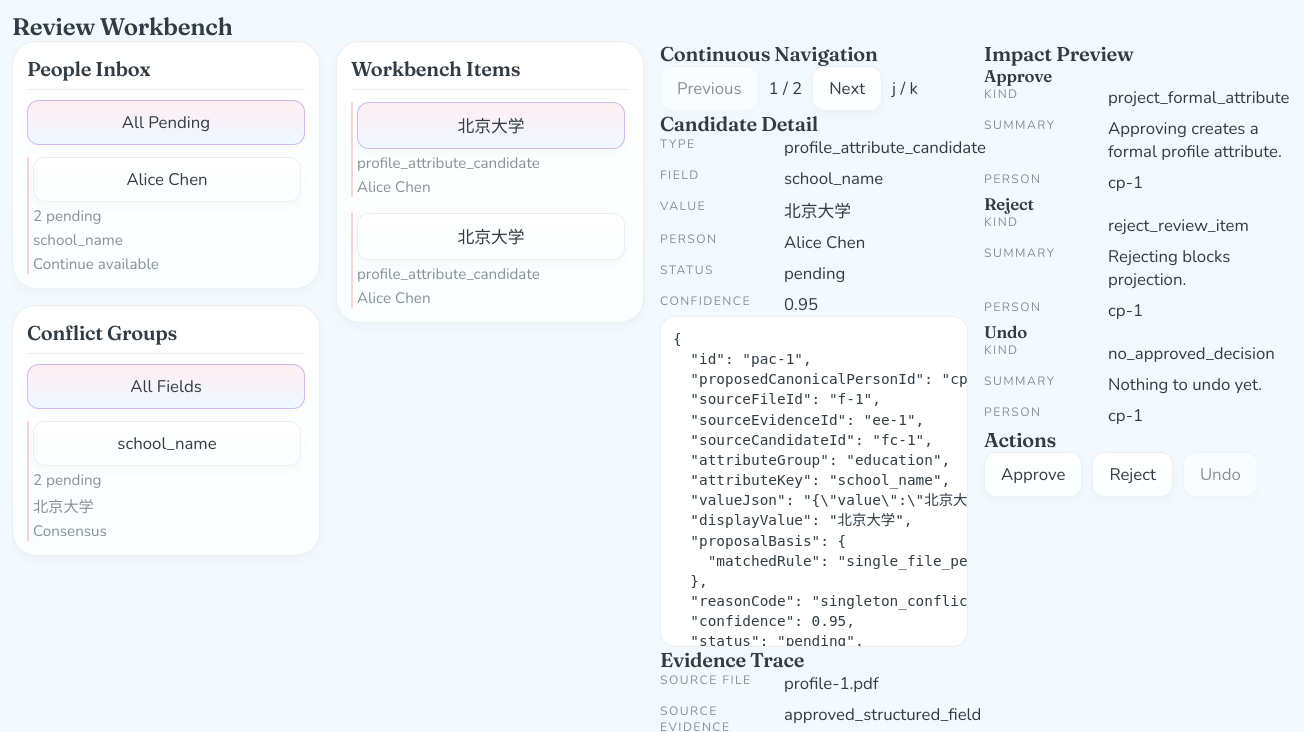
Test: ReviewWorkbenchPage › shows safe batch approval for a no-conflict profile attribute group and confirms before execution
Click the button "school_name" at [167, 444], box [33,421,301,466]
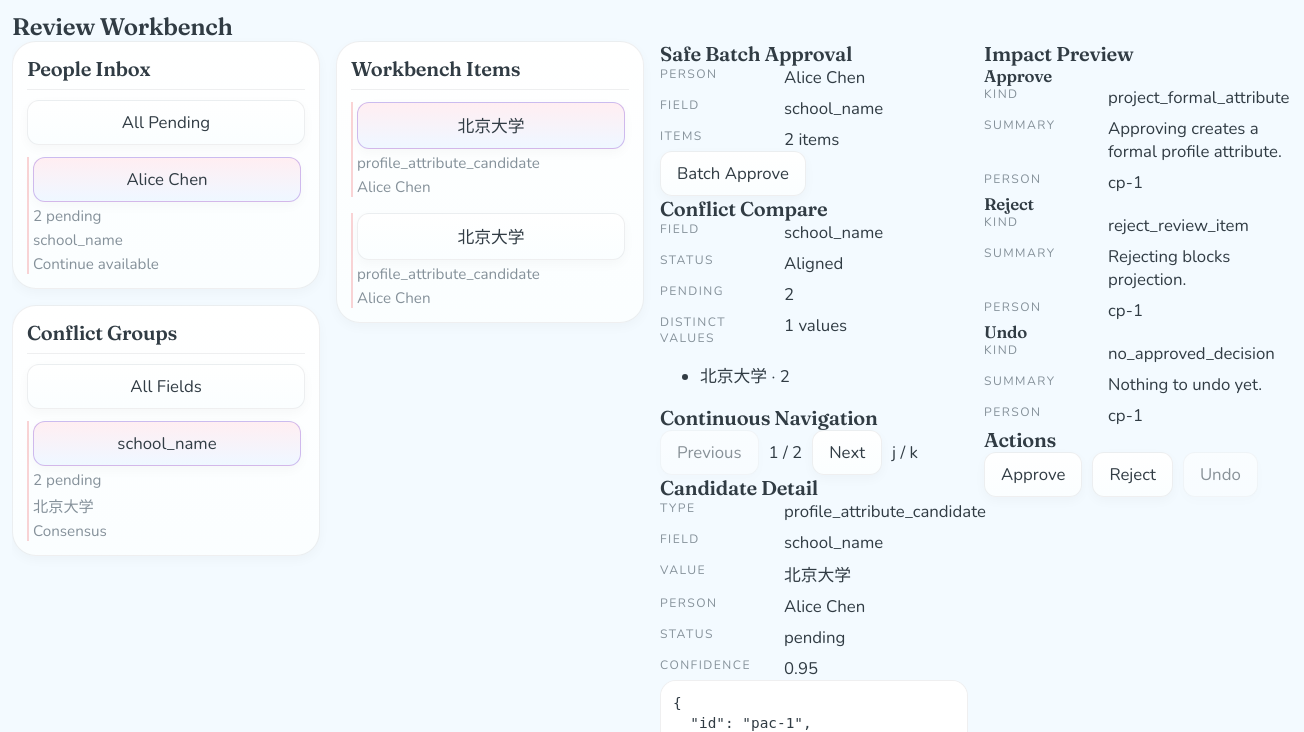
Result: the button "Batch Approve" is shown
Click the button "Batch Approve" at [733, 174], box [660,151,806,196]
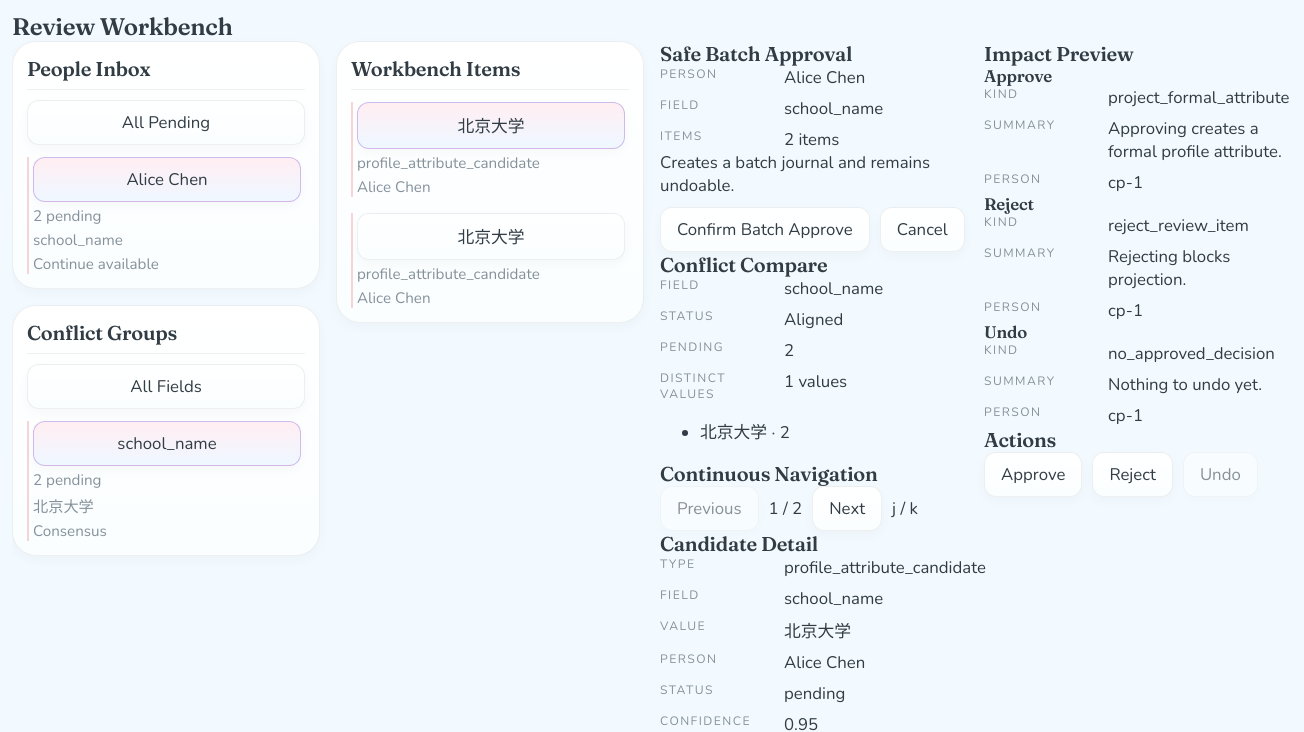
Result: the heading "Safe Batch Approval" is shown at [660,41,852,66]
Result: the text "2 items" is shown at [784,128,840,151]
Click the button "Confirm Batch Approve" at [765, 230], box [660,207,870,252]
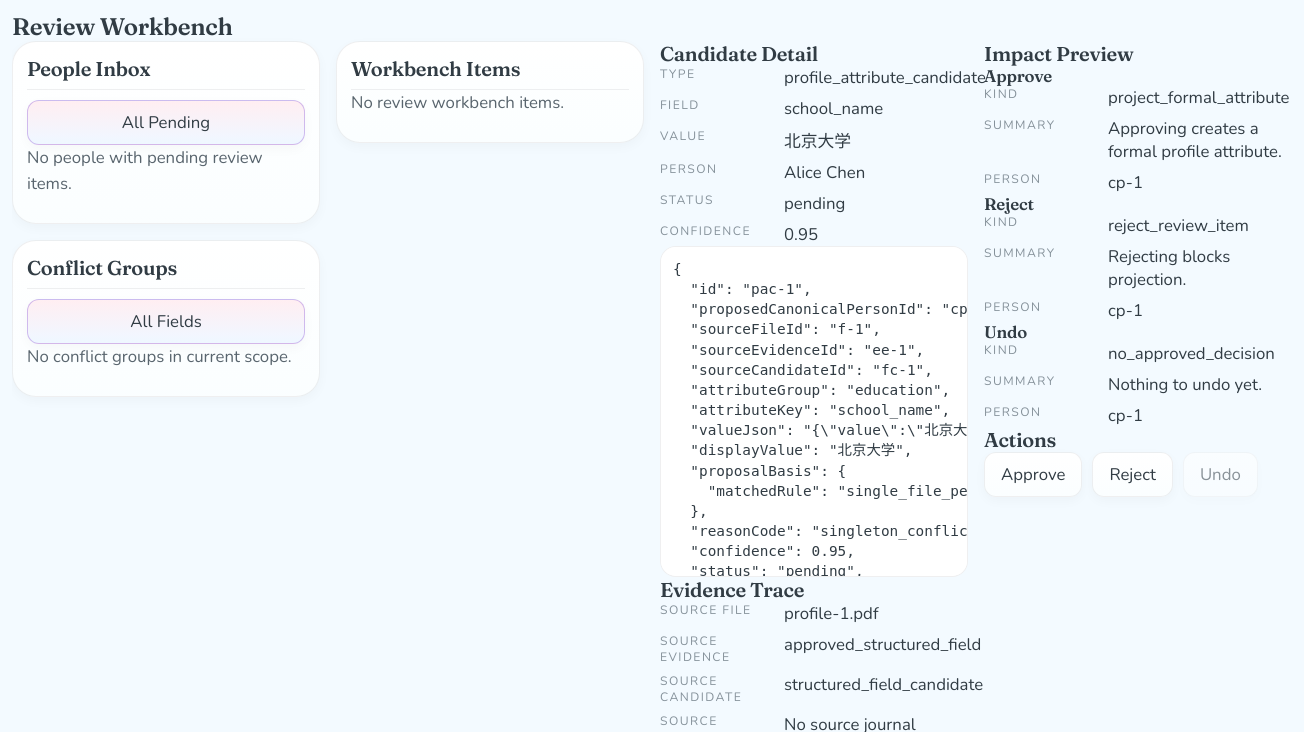
Result: the text "No conflict groups in current scope." is shown at [27,344,305,370]
